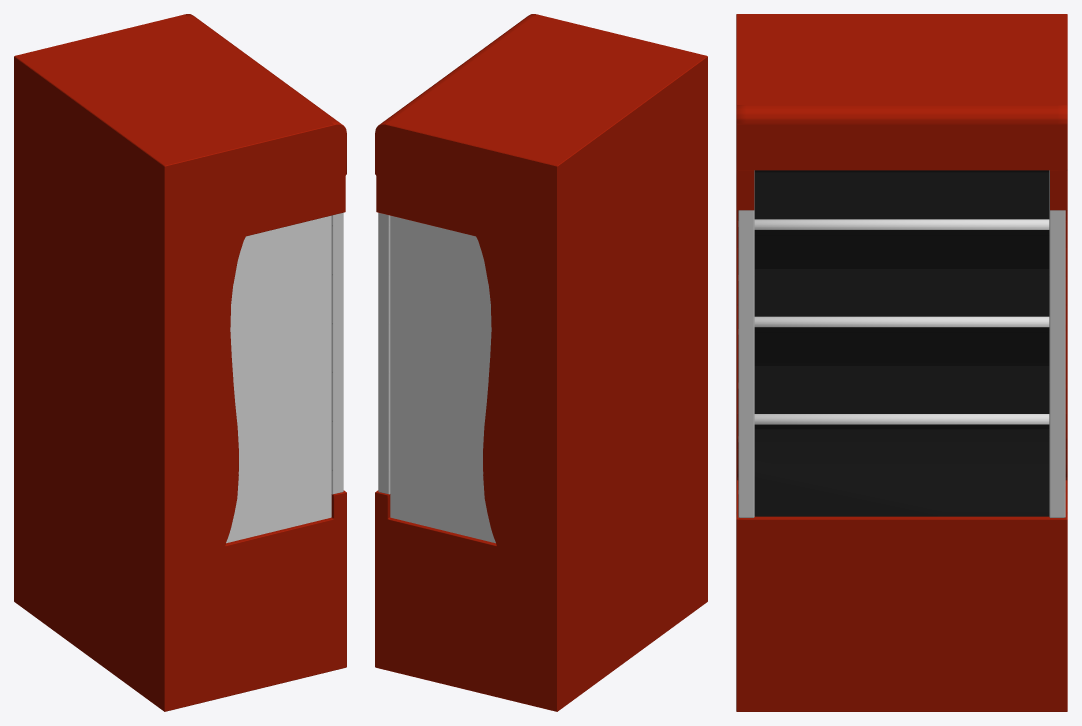
Rendered from coke_shelf_2.fbx.
3 views of the same model, side by side, from view 1: azimuth 30°, elevation 25°; view 2: azimuth 150°, elevation 25°; view 3: azimuth 270°, elevation 25° (orthographic). The views are drawn at different scales.
Parts seen in each view (by area): view 1: Cube, Cube.002, Cube.001; view 2: Cube, Cube.002, Cube.001; view 3: Cube, Cube.004, Cube.003, Cube.001, Cube.005.
Part boxes in pixels (<box>): Cube: <box>14,14,346,711</box>; Cube.002: <box>226,215,331,543</box>; Cube.001: <box>331,212,343,494</box>; Cube: <box>375,14,707,711</box>; Cube.002: <box>390,215,495,543</box>; Cube.001: <box>378,212,390,494</box>; Cube: <box>736,14,1067,711</box>; Cube.004: <box>754,172,1049,429</box>; Cube.003: <box>754,170,1049,516</box>; Cube.001: <box>738,170,1065,517</box>; Cube.005: <box>754,219,1049,424</box>.
Bounding box in the file's own units: 70 × 200 × 100.
